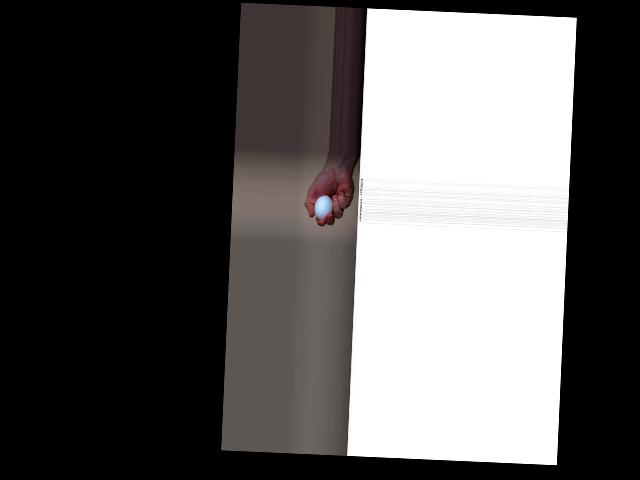egg: (314, 193, 333, 219)
